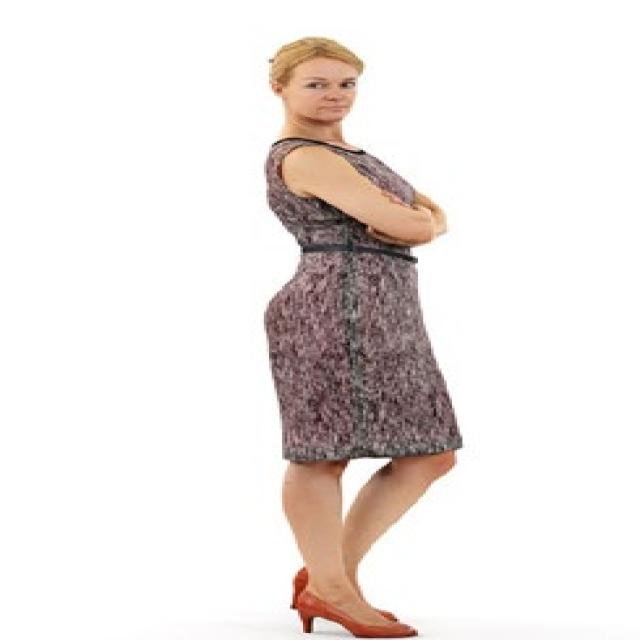standing: (263, 36, 462, 640)
